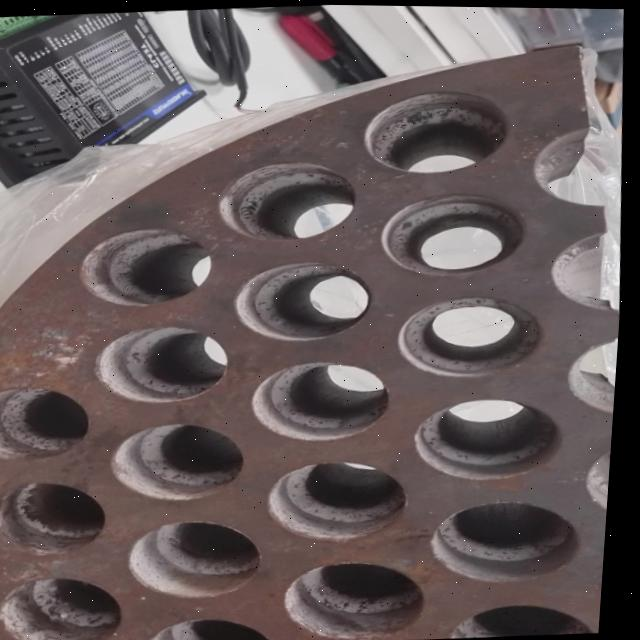Hole: (434, 493, 594, 584), (416, 392, 573, 482), (399, 290, 554, 380), (363, 85, 516, 176), (381, 188, 533, 277), (271, 455, 420, 544), (254, 356, 402, 443), (289, 555, 439, 640), (236, 257, 381, 344), (218, 157, 364, 242), (132, 515, 276, 601), (113, 418, 257, 504), (95, 320, 239, 406), (80, 224, 221, 309), (0, 477, 121, 558), (4, 571, 138, 640), (0, 383, 103, 463), (455, 596, 609, 638), (151, 612, 290, 640)
